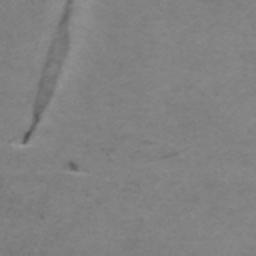Finishing roll printing: (22, 0, 74, 146)
